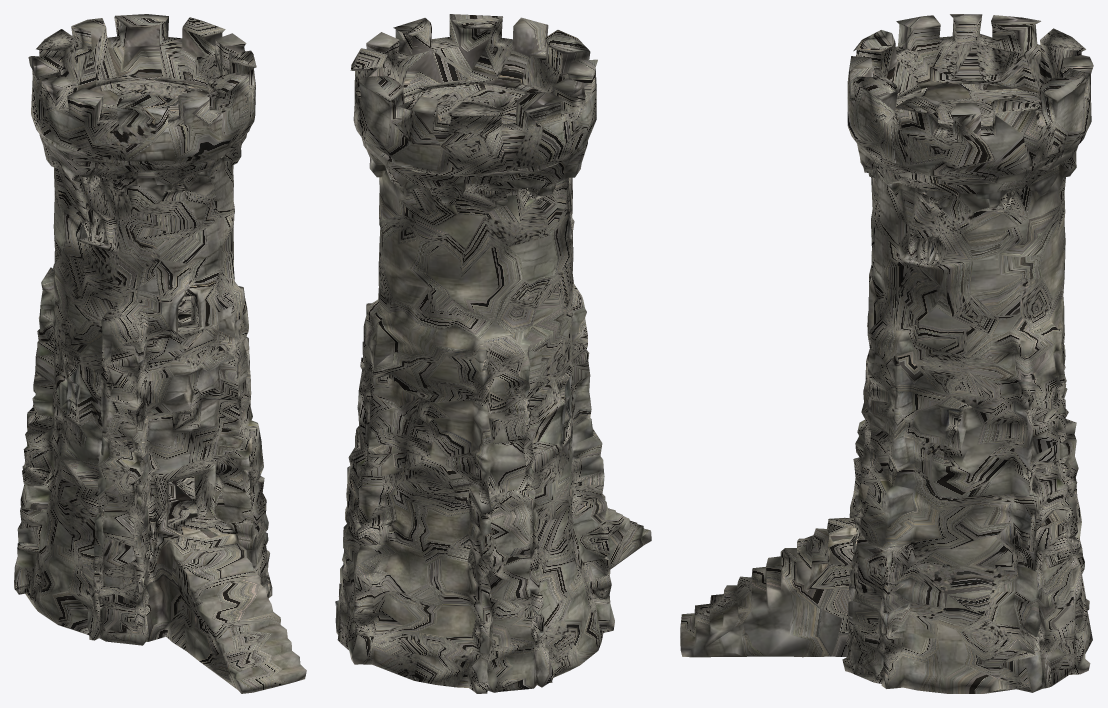
File: gt_stone.glb
The picture shows the model from 3 angles, left to right: view 1: azimuth 30°, elevation 25°; view 2: azimuth 150°, elevation 25°; view 3: azimuth 270°, elevation 25°; orthographic projection. The views are drawn at different scales.
Visible parts, largest first — view 1: gt_stone; view 2: gt_stone; view 3: gt_stone.
Part boxes in pixels (bbox=[...]): gt_stone: bbox=[14, 14, 306, 693]; gt_stone: bbox=[335, 14, 651, 693]; gt_stone: bbox=[680, 14, 1093, 693].
Bounding box in the file's own units: 0.7609 × 1.9 × 1.23.
1 material, 1 textured.
